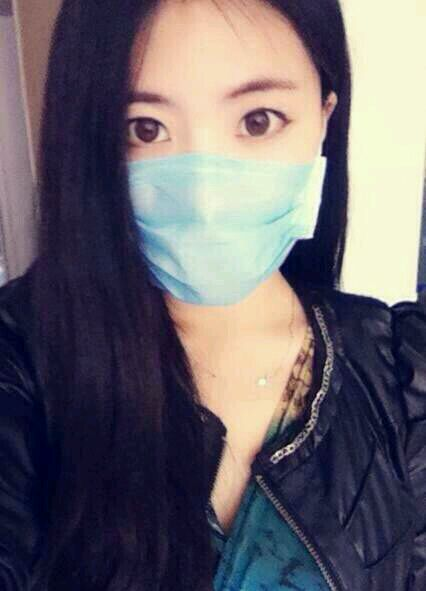face_mask: (128, 1, 315, 292)
